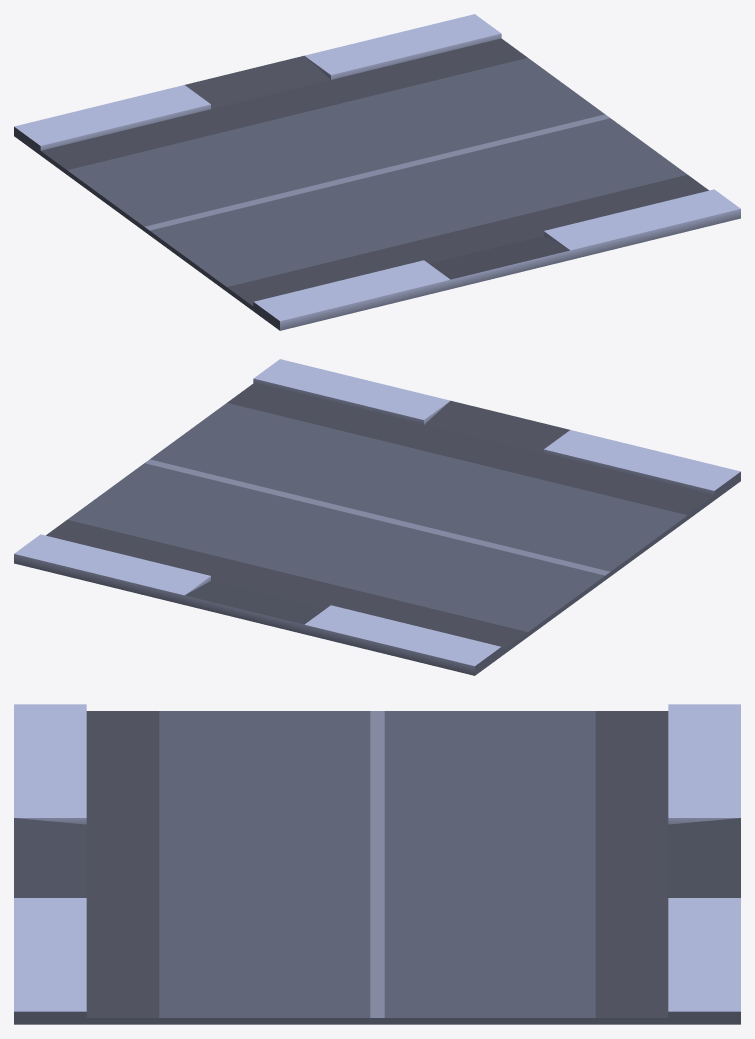
The model's file is road-driveway-double.glb.
The picture shows the model from 3 angles, top to bottom: view 1: azimuth 30°, elevation 25°; view 2: azimuth 150°, elevation 25°; view 3: azimuth 270°, elevation 25°; orthographic projection. The views are drawn at different scales.
Visible parts, largest first — view 1: road-driveway-double; view 2: road-driveway-double; view 3: road-driveway-double.
Part boxes in pixels (left/top/right/bottom): road-driveway-double: left=14, top=14, right=740, bottom=330; road-driveway-double: left=14, top=359, right=740, bottom=675; road-driveway-double: left=14, top=704, right=740, bottom=1024.
Size of the model in its own units: 1 by 0.02 by 1.
Materials: 1 (1 with a texture image).
